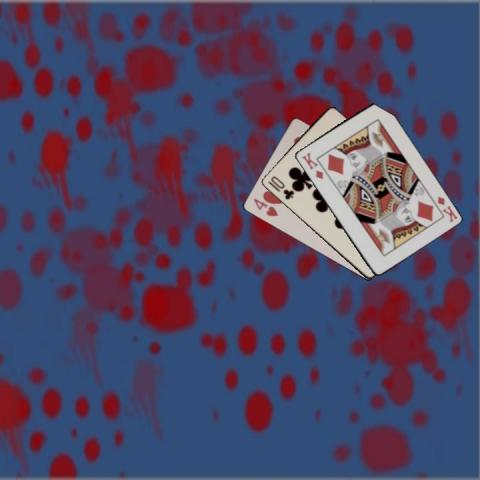10c: (265, 173, 295, 201)
4h: (250, 195, 279, 218)
Kd: (298, 149, 324, 181), (434, 193, 459, 224)
